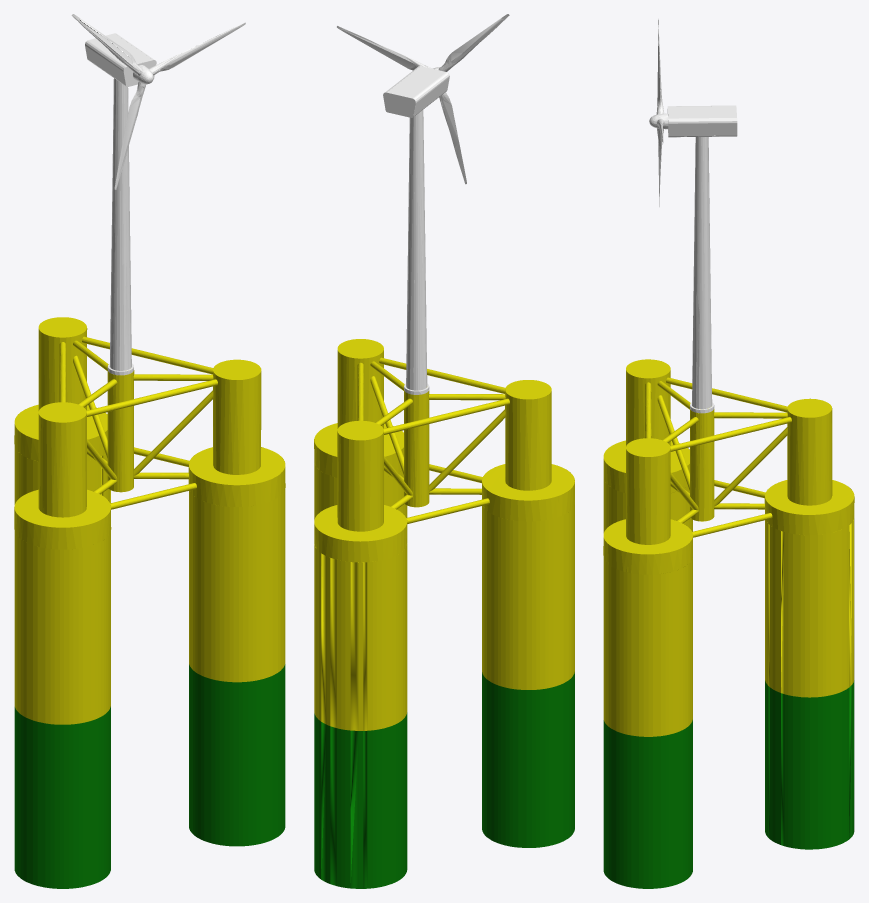
Rendered from offshore_wind_turbine.dae.
3 renders of one model, left to right at view 1: azimuth 30°, elevation 25°; view 2: azimuth 150°, elevation 25°; view 3: azimuth 270°, elevation 25°, orthographic. The views are drawn at different scales.
Parts seen in each view (by area): view 1: node0, node1; view 2: node0, node1; view 3: node0, node1.
Boxes of the visible parts, bbox=[...] form: node0: bbox=[14, 317, 285, 888]; node1: bbox=[71, 14, 245, 375]; node0: bbox=[314, 339, 574, 888]; node1: bbox=[337, 14, 509, 394]; node0: bbox=[603, 359, 854, 888]; node1: bbox=[649, 19, 737, 413].
Size of the model in its own units: 74 by 67.33 by 232.
